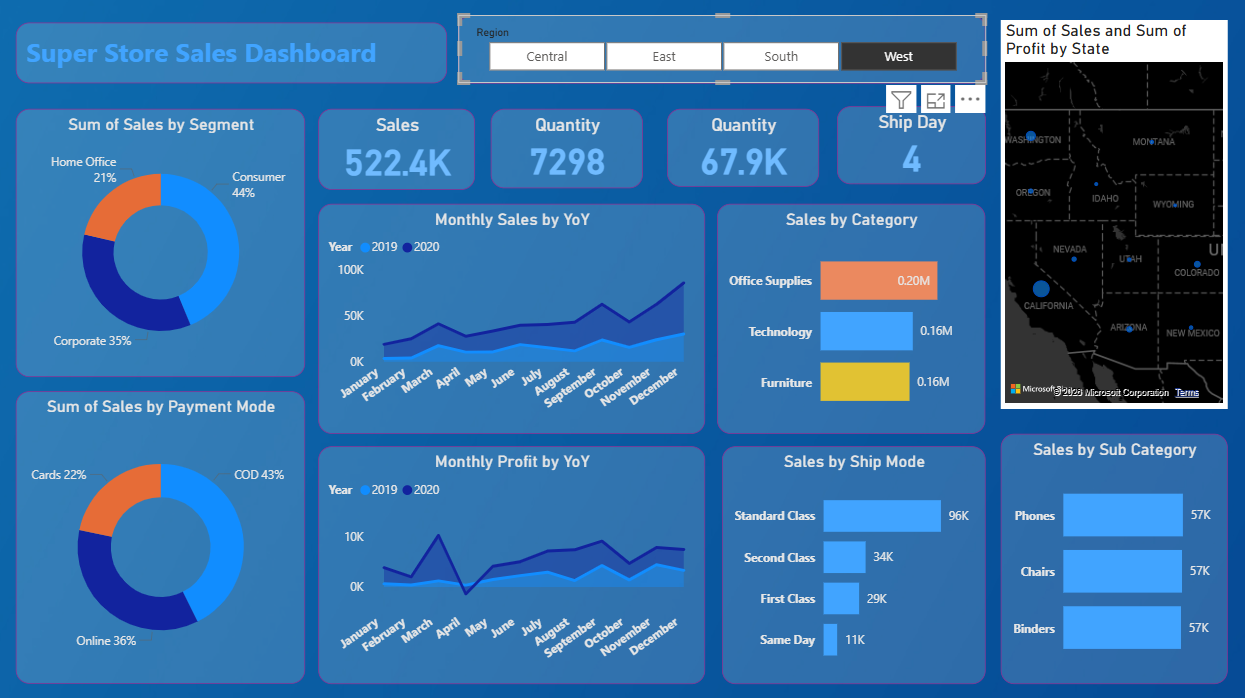

What the dashboard file says about the page in this screenshot:
{"tool":"powerbi","page":{"name":"Page 1","canvas":[1280,720],"ordinal":0},"visuals":[{"type":"clusteredBarChart","title":"Sales by Category","fields":{"Category":["SuperStore_Sales_Dataset.Category"],"Y":["Sum(SuperStore_Sales_Dataset.Sales)"]},"box":[739.1,209.4,275,235.9],"z":0},{"type":"clusteredBarChart","title":"Sales by Sub Category","fields":{"Category":["SuperStore_Sales_Dataset.Sub-Category"],"Y":["Sum(SuperStore_Sales_Dataset.Sales)"]},"box":[1029.1,445.2,232.8,257],"z":1000},{"type":"clusteredBarChart","title":"Sales by Ship Mode","fields":{"Category":["SuperStore_Sales_Dataset.Ship Mode"],"Y":["Sum(SuperStore_Sales_Dataset.Sales)"]},"box":[743.8,457.8,270.3,243.8],"z":2000},{"type":"stackedAreaChart","title":"Monthly Sales by YoY","fields":{"Y":["Sum(SuperStore_Sales_Dataset.Sales)"],"Category":["SuperStore_Sales_Dataset.Order Date.Variation.Date Hierarchy.Month","SuperStore_Sales_Dataset.Order Date.Variation.Date Hierarchy.Day"],"Series":["SuperStore_Sales_Dataset.Order Date.Variation.Date Hierarchy.Year"]},"box":[329.7,209.4,396.9,235.9],"z":3000},{"type":"stackedAreaChart","title":"Monthly Profit by YoY","fields":{"Category":["SuperStore_Sales_Dataset.Order Date.Variation.Date Hierarchy.Month","SuperStore_Sales_Dataset.Order Date.Variation.Date Hierarchy.Day"],"Series":["SuperStore_Sales_Dataset.Order Date.Variation.Date Hierarchy.Year"],"Y":["Sum(SuperStore_Sales_Dataset.Profit)"]},"box":[329.7,457.8,396.9,243.8],"z":4000},{"type":"map","fields":{"Category":["SuperStore_Sales_Dataset.State"],"Size":["Sum(SuperStore_Sales_Dataset.Sales)"]},"box":[1029.1,20.5,232.8,398.1],"z":5000},{"type":"donutChart","fields":{"Category":["SuperStore_Sales_Dataset.Segment"],"Y":["Sum(SuperStore_Sales_Dataset.Sales)"]},"box":[18.8,110.9,296.9,275],"z":6000},{"type":"donutChart","fields":{"Category":["SuperStore_Sales_Dataset.Payment Mode"],"Y":["Sum(SuperStore_Sales_Dataset.Sales)"]},"box":[18.8,401.6,296.9,300],"z":7000},{"type":"slicer","fields":{"Values":["SuperStore_Sales_Dataset.Region"]},"box":[473.4,15.6,540.6,70.3],"z":8000},{"type":"textbox","box":[18.8,23.4,442.2,62.5],"z":9000},{"type":"card","title":"Sales","fields":{"Values":["Sum(SuperStore_Sales_Dataset.Sales)"]},"box":[329.7,110.9,160.9,82.8],"z":10000},{"type":"card","title":"Quantity","fields":{"Values":["Sum(SuperStore_Sales_Dataset.Quantity)"]},"box":[506.2,110.9,156.2,81.2],"z":11000},{"type":"card","title":"Quantity","fields":{"Values":["Sum(SuperStore_Sales_Dataset.Profit)"]},"box":[687.5,110.9,156.2,79.7],"z":12000},{"type":"card","title":"Ship Day","fields":{"Values":["Avg(SuperStore_Sales_Dataset.AvgDelivery)"]},"box":[860.9,109.4,153.1,79.7],"z":13000}]}

Visuals, with their boxes in screenshot pixels (x1, y1, x2, y2), scaled from the page's 1280x720 canvas onto the 1245x698 screenshot:
"Sales by Category" clusteredBarChart: 719:203:986:432
"Sales by Sub Category" clusteredBarChart: 1001:432:1227:681
"Sales by Ship Mode" clusteredBarChart: 723:444:986:680
"Monthly Sales by YoY" stackedAreaChart: 321:203:707:432
"Monthly Profit by YoY" stackedAreaChart: 321:444:707:680
map - SuperStore_Sales_Dataset.State x Sum(SuperStore_Sales_Dataset.Sales): 1001:20:1227:406
donutChart - SuperStore_Sales_Dataset.Segment x Sum(SuperStore_Sales_Dataset.Sales): 18:108:307:374
donutChart - SuperStore_Sales_Dataset.Payment Mode x Sum(SuperStore_Sales_Dataset.Sales): 18:389:307:680
slicer - SuperStore_Sales_Dataset.Region: 460:15:986:83
textbox: 18:23:448:83
"Sales" card: 321:108:477:188
"Quantity" card: 492:108:644:186
"Quantity" card: 669:108:821:185
"Ship Day" card: 837:106:986:183
